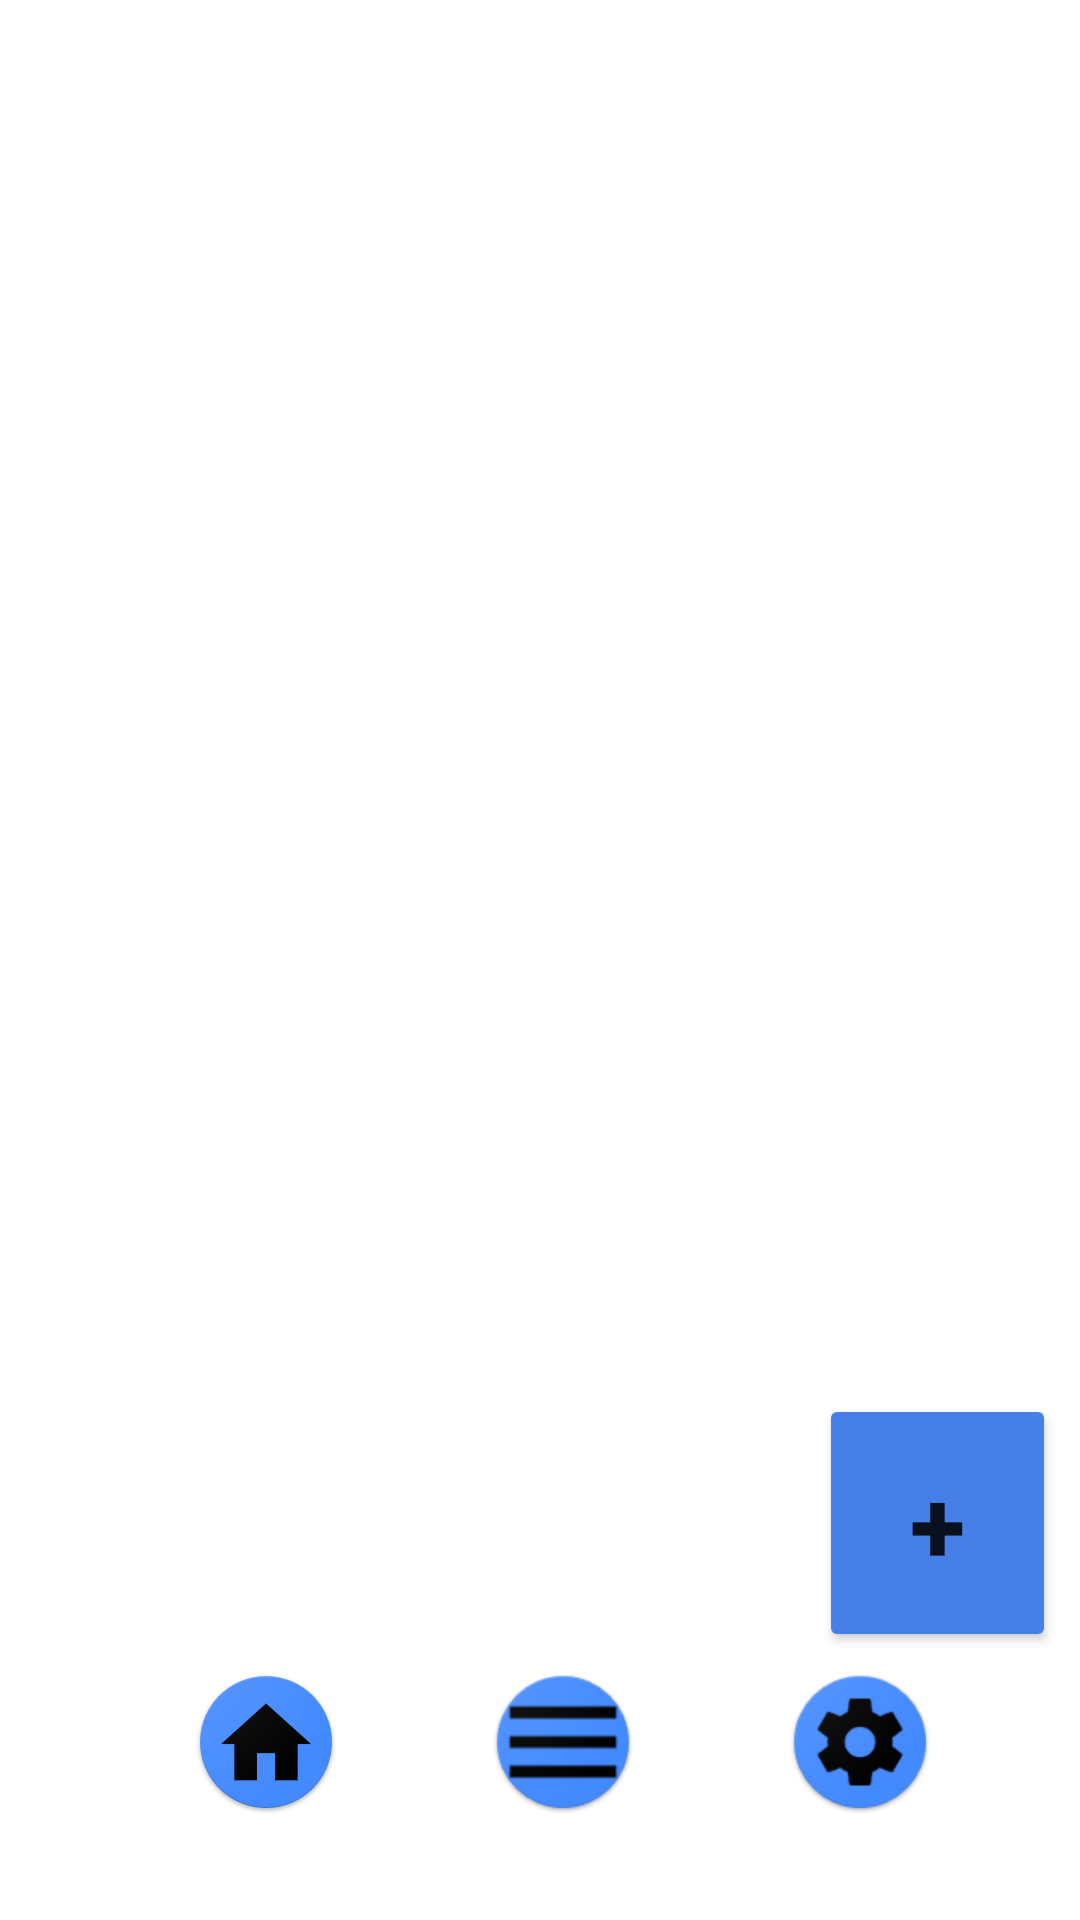

Where to tap for icons on this 1080px x 1920px app screen, as (x=x, y=y):
menu: (x=563, y=1743)
